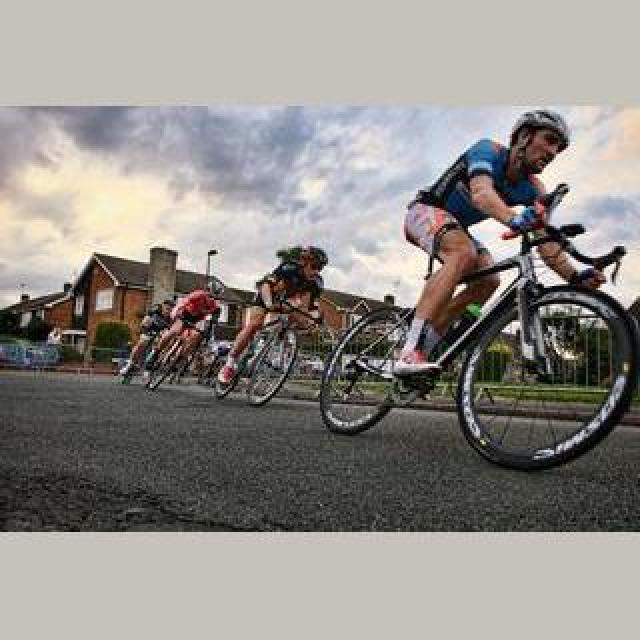MC-Bike: (396, 110, 584, 374), (216, 246, 328, 388), (150, 286, 222, 386)
Person: (314, 200, 638, 476), (234, 304, 326, 404), (148, 322, 216, 388), (198, 340, 230, 386)
